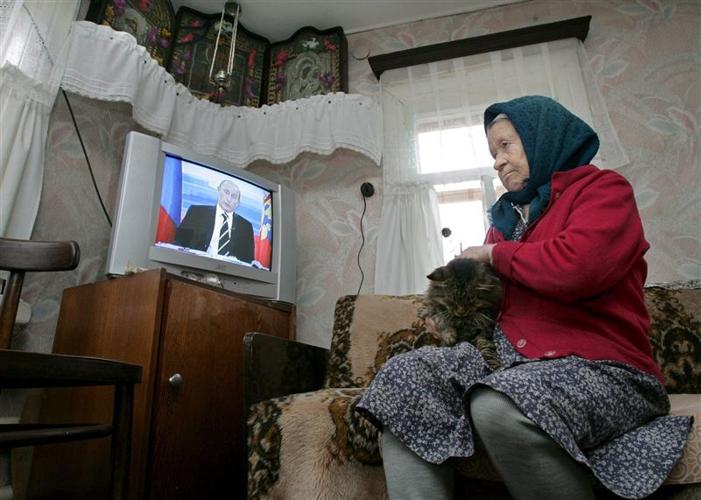person: (360, 96, 665, 498)
